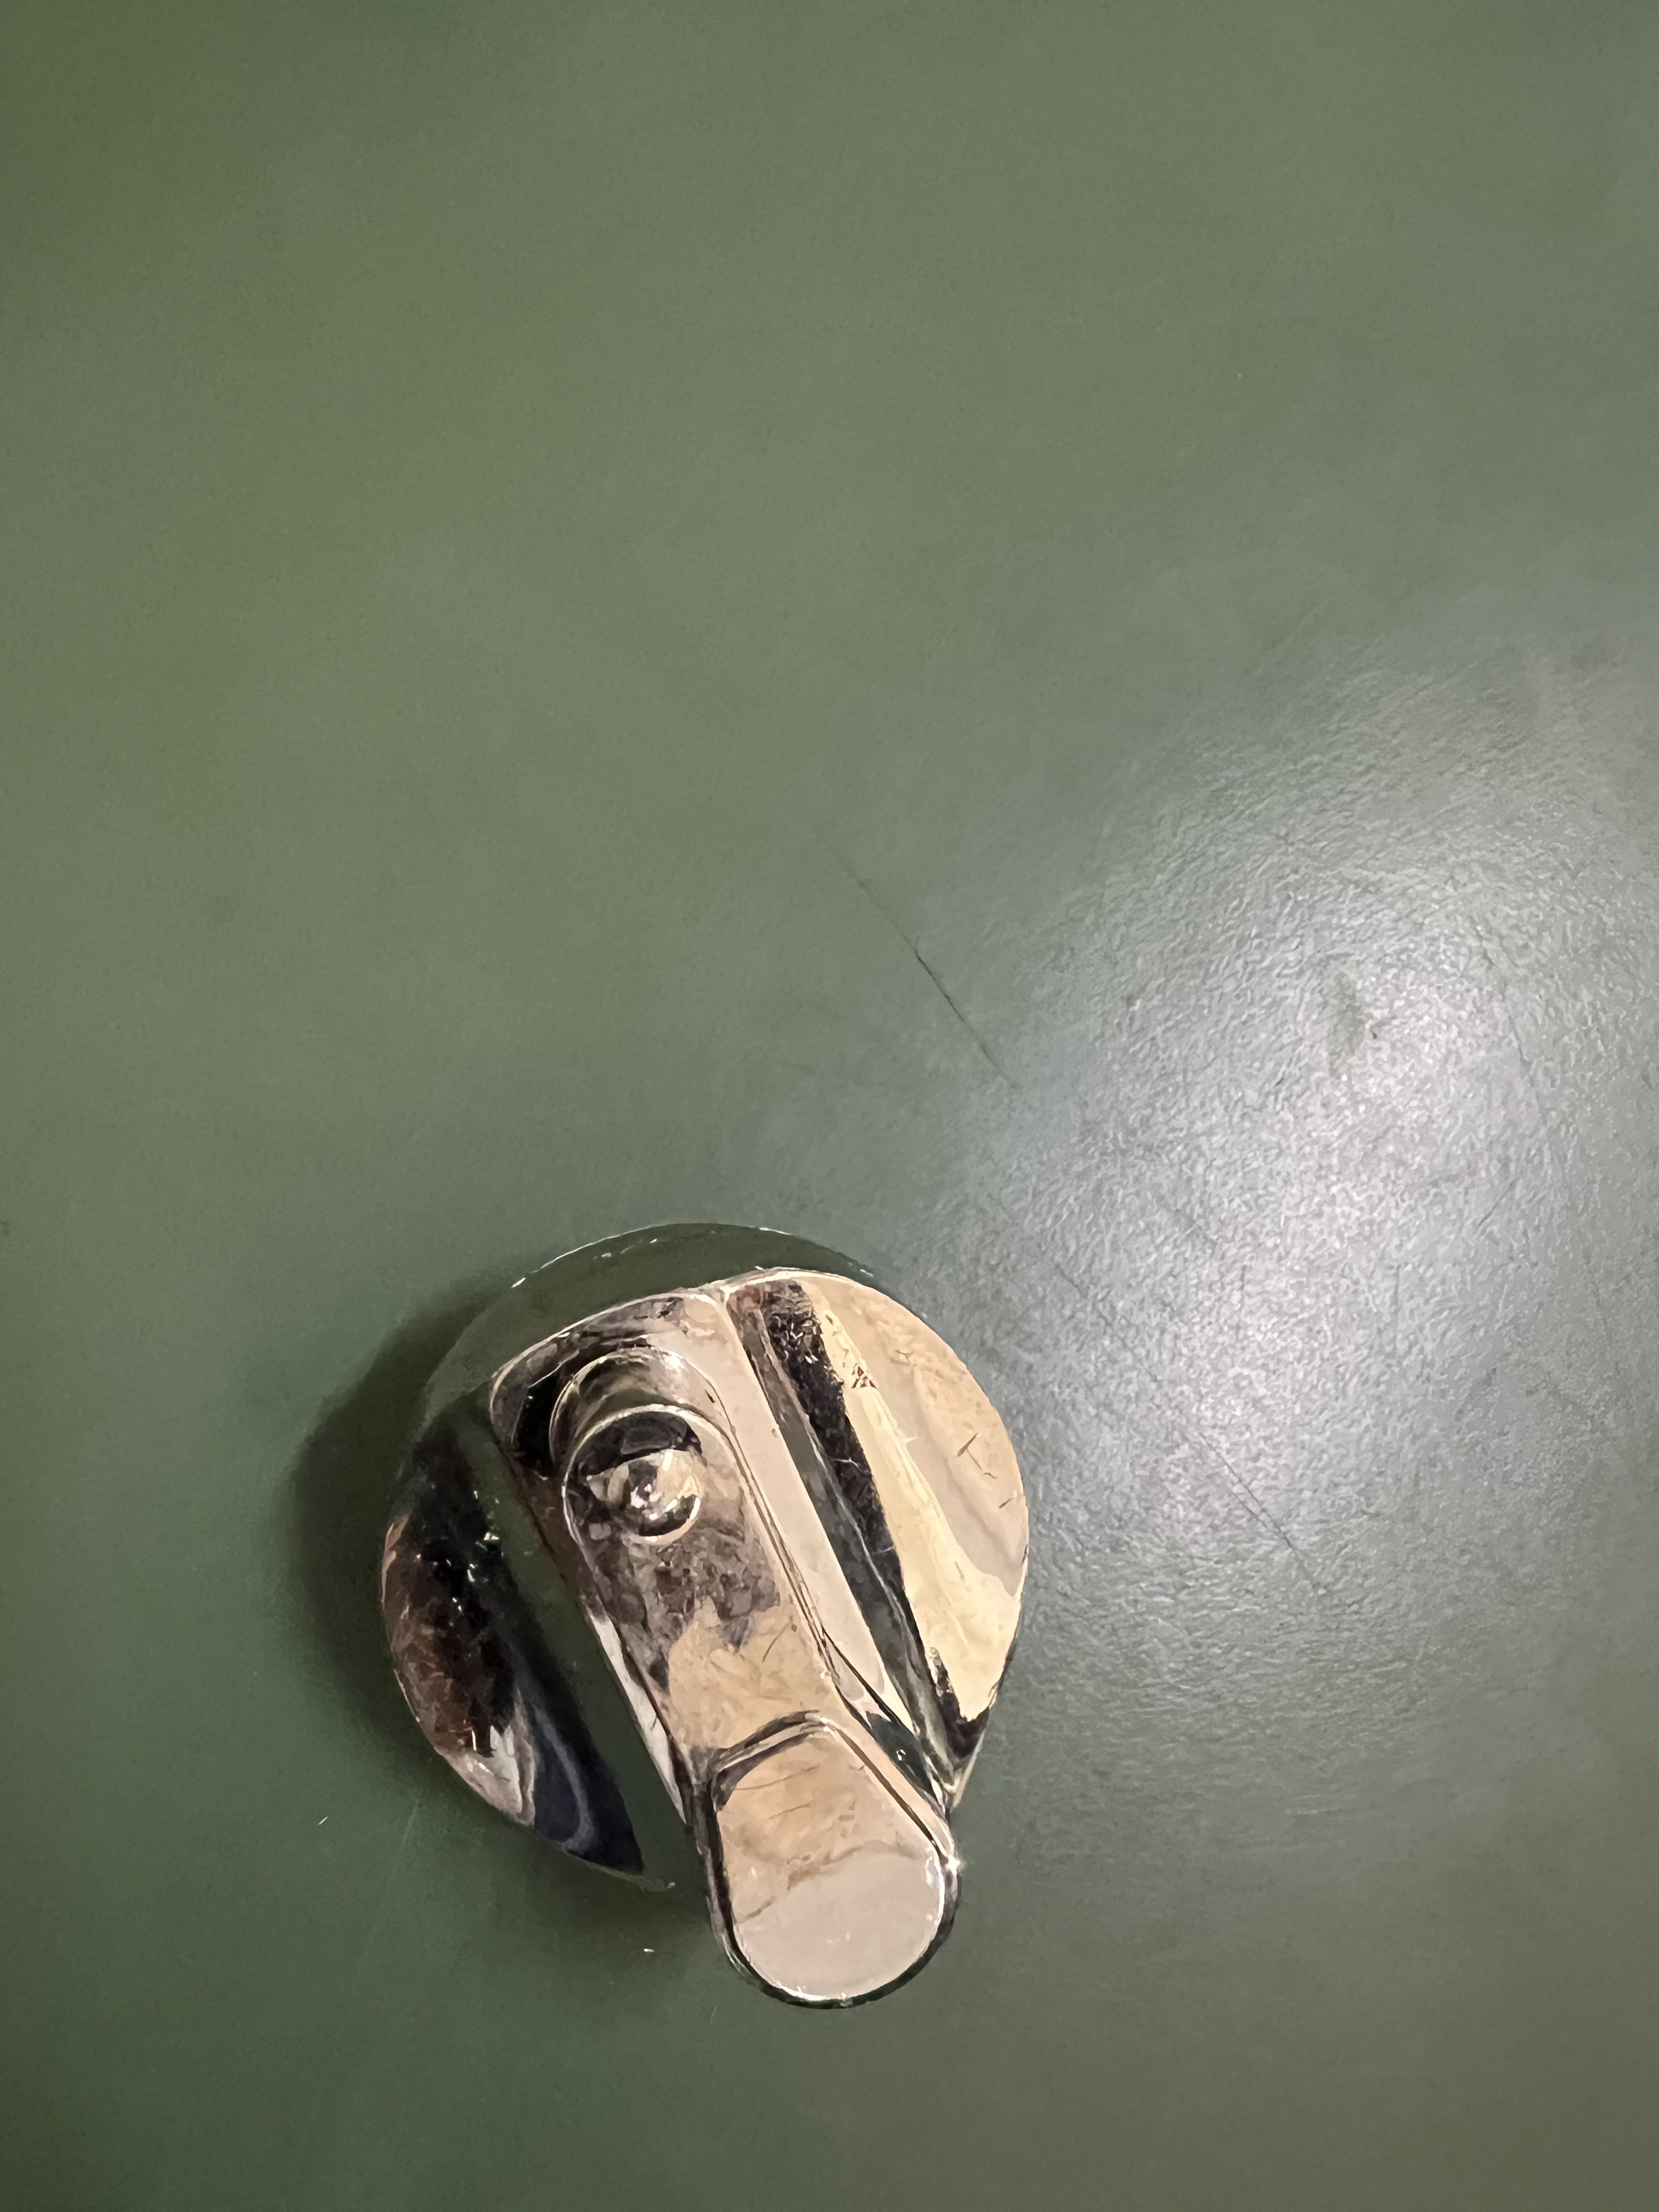regulator: (350, 1190, 1103, 2020)
